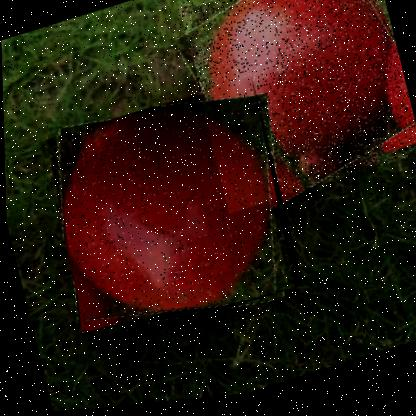pomegranate: (35, 77, 301, 357), (174, 0, 415, 224)
